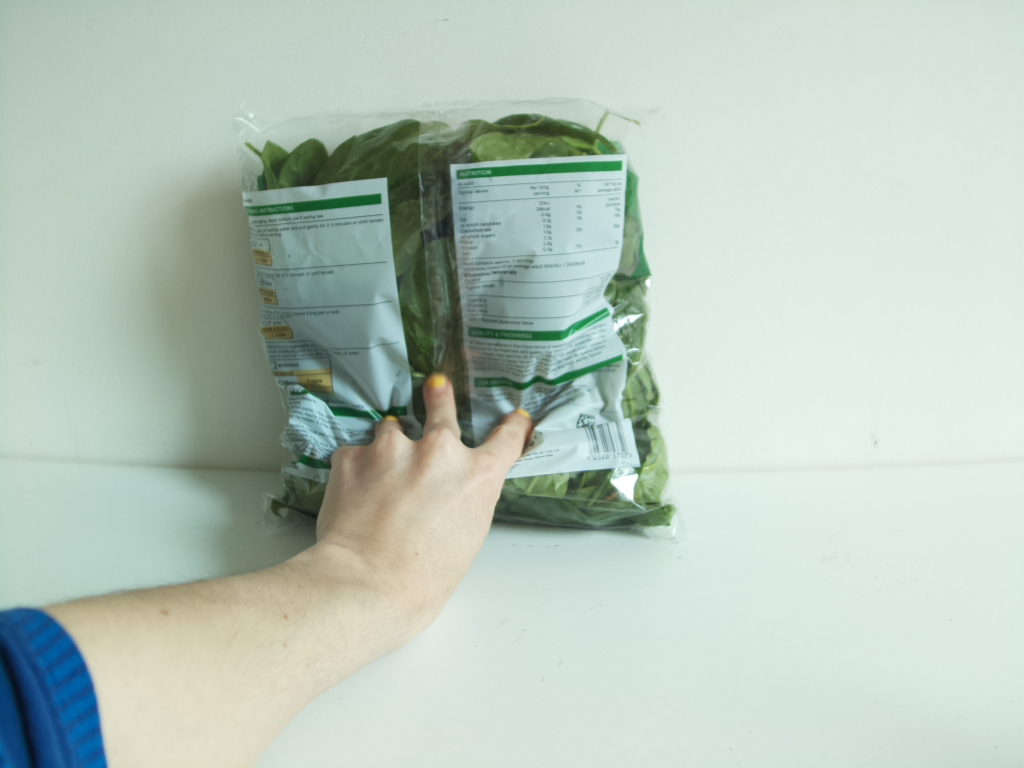salad: (242, 117, 687, 535)
